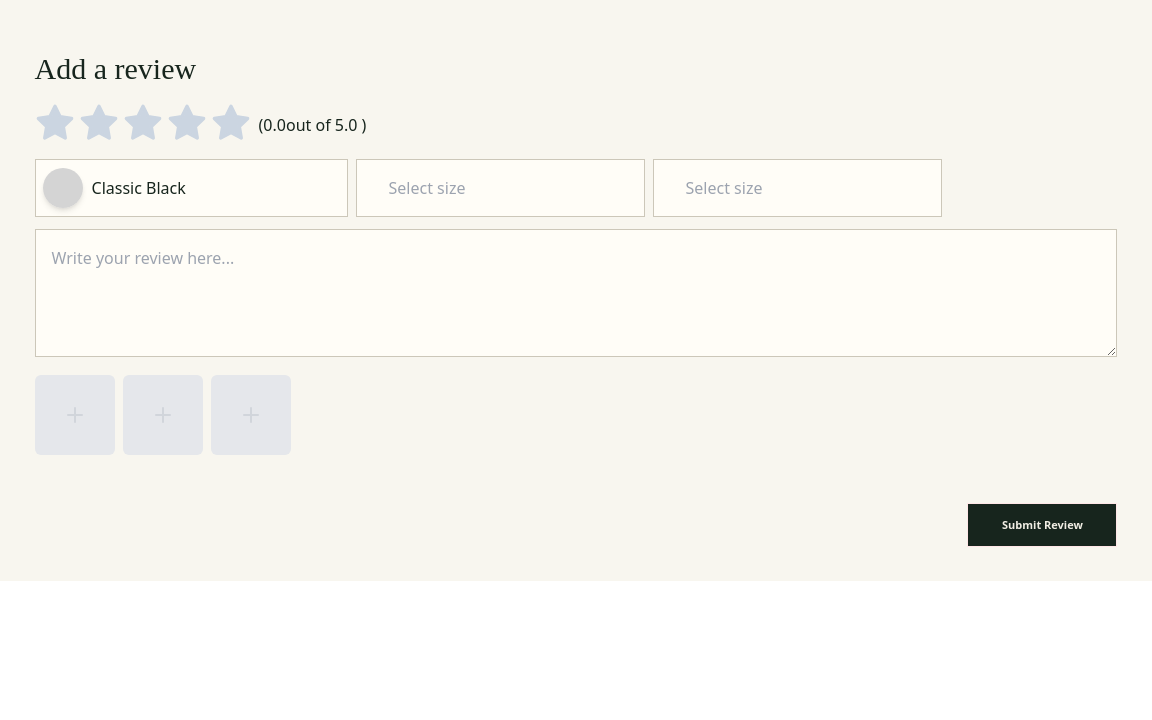
Scenario: ReviewDetails Component Tests › should change size options when variant changes
Focus the field with placeholder "Select product" at (191, 188), box x1=34 y1=158 x2=348 y2=216
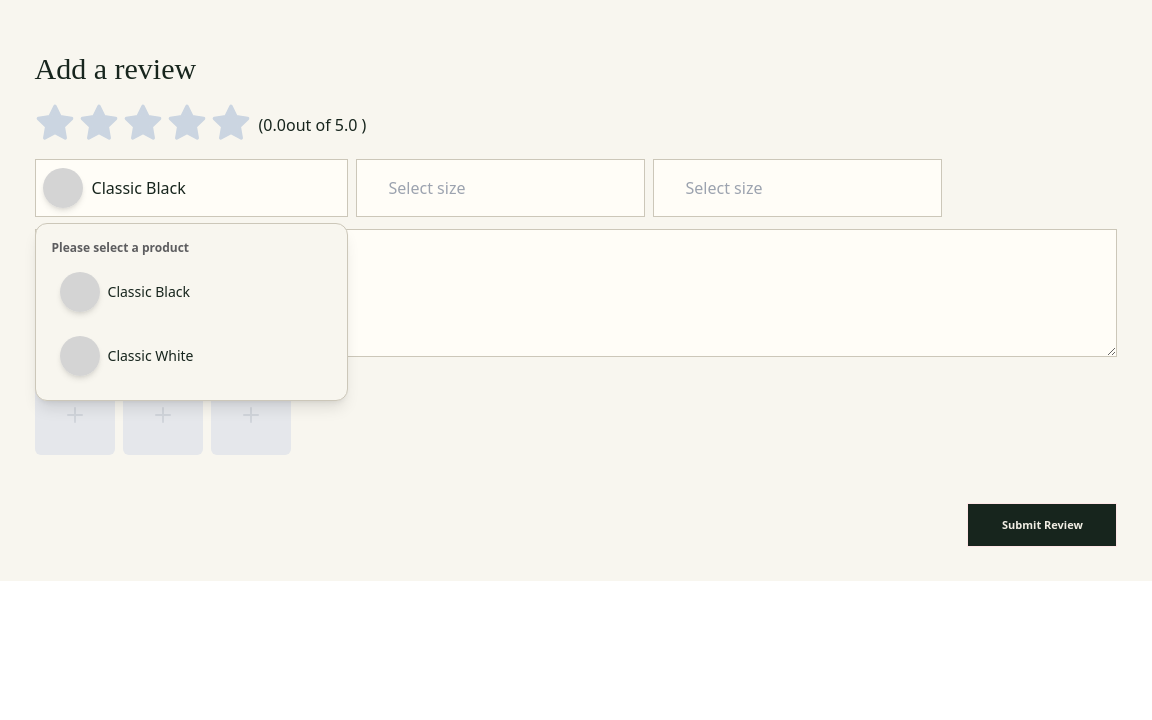
expect the list item "Classic White" is shown: met
Press the mouse on the list item "Classic White" at (126, 356), box x1=60 y1=336 x2=193 y2=376
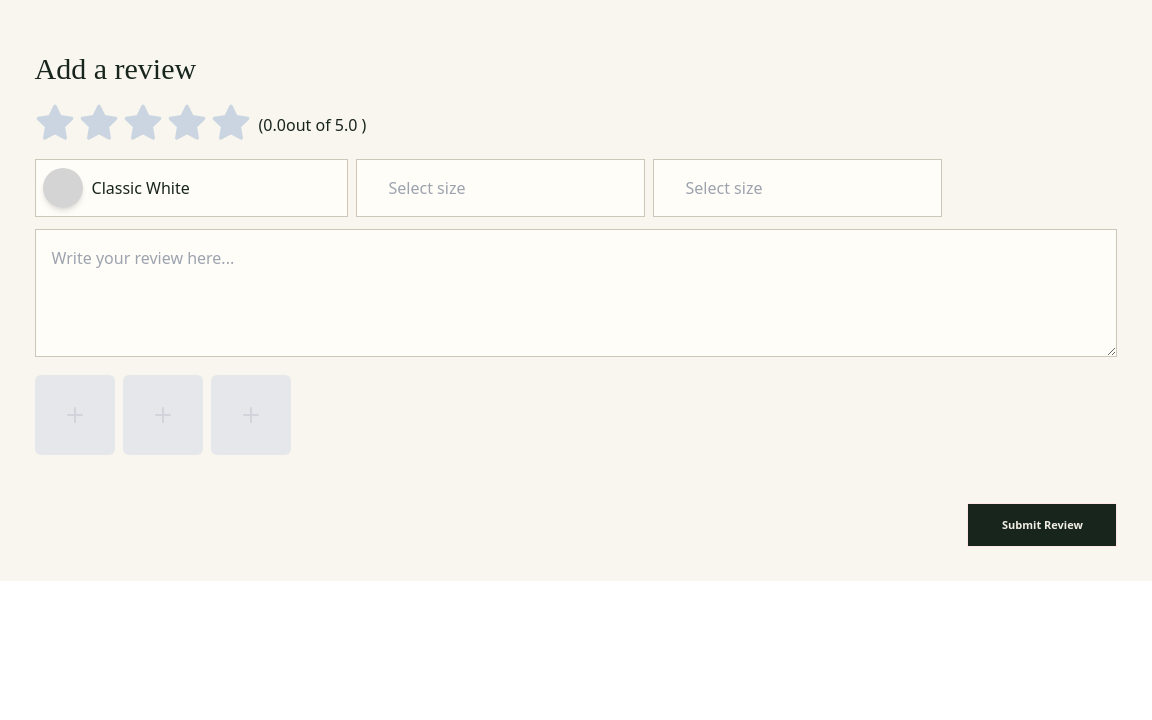
expect the field with placeholder "Select product" holds "Classic White": met, box x1=34 y1=158 x2=348 y2=216
